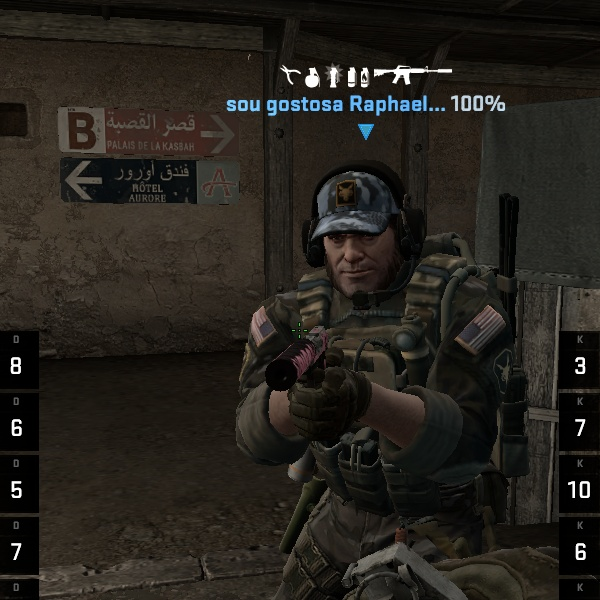ct_body: (225, 159, 552, 594)
ct_head: (287, 147, 441, 303)
